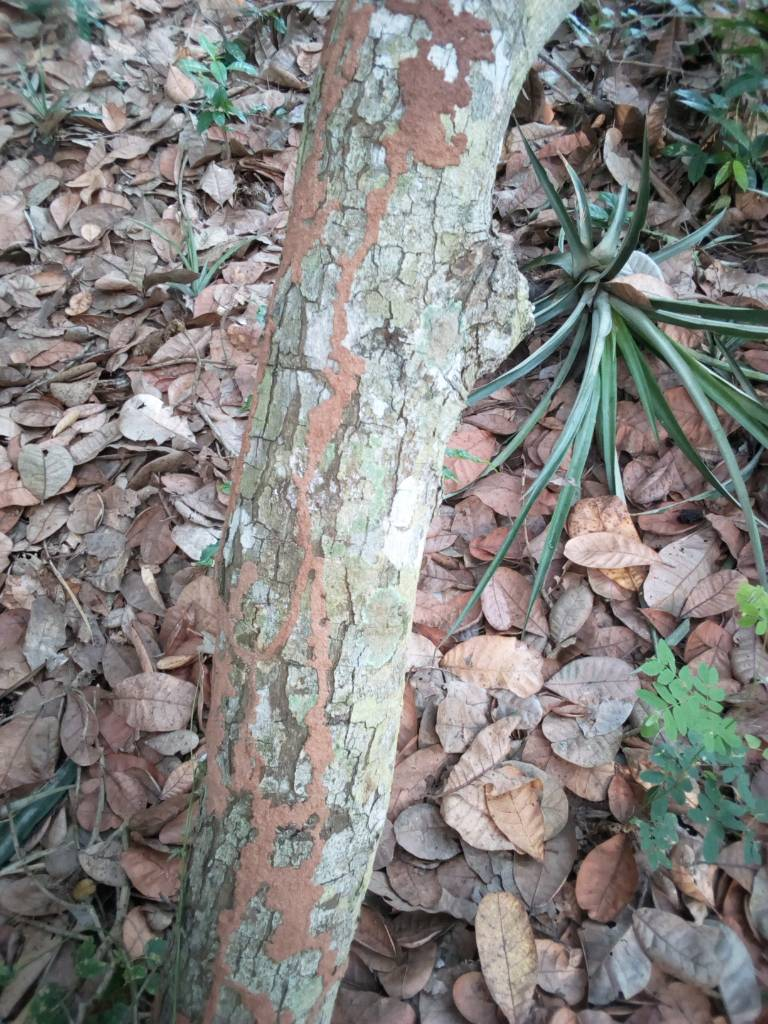Termites: (279, 10, 488, 375), (196, 555, 333, 1024), (229, 382, 365, 553)
